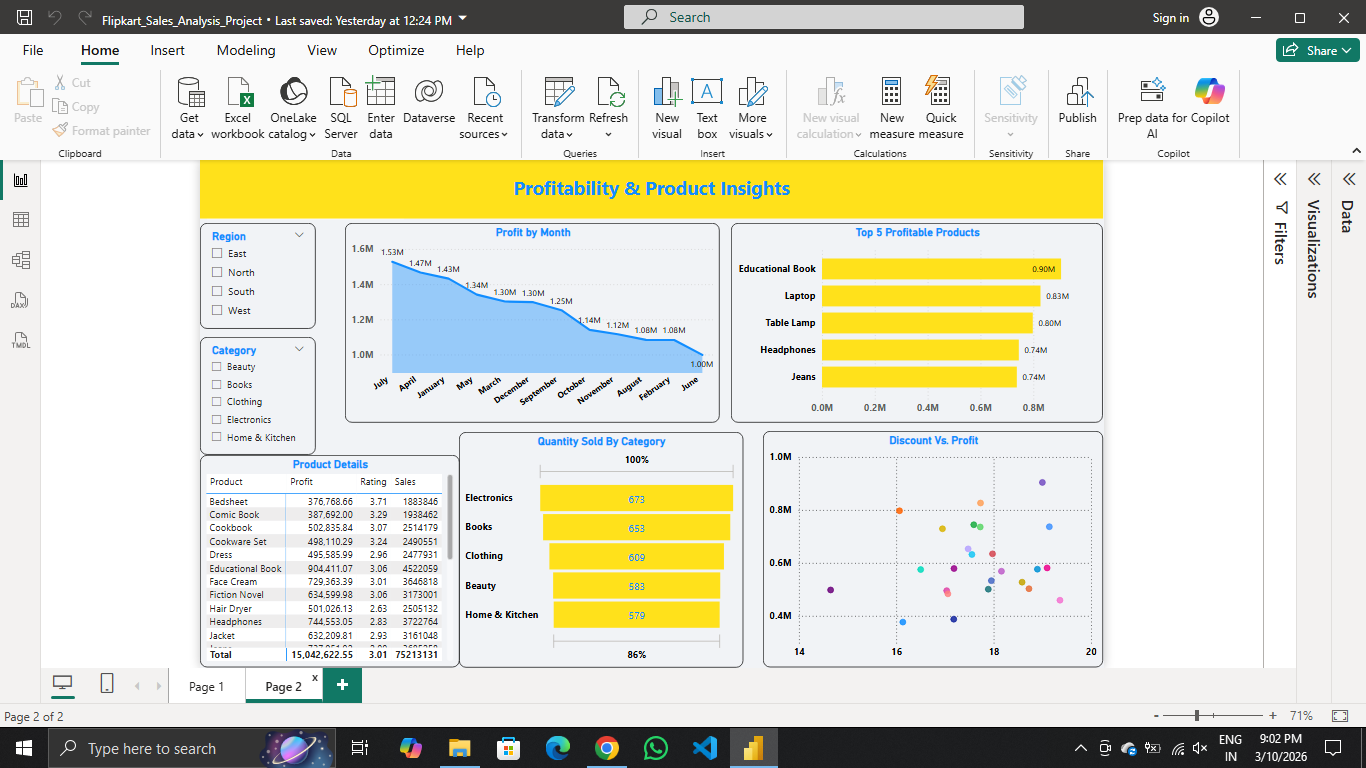

This screenshot's page, from the dashboard's own definition file:
{"tool":"powerbi","page":{"name":"Page 2","canvas":[1280,720],"ordinal":1},"visuals":[{"type":"textbox","box":[10.1,0,279.4,83.5],"z":0},{"type":"textbox","box":[0,0,1280,83.3],"z":1000},{"type":"textbox","box":[0,0,1280,83.3],"z":2000},{"type":"barChart","title":"Top 5 Profitable Products","fields":{"Category":["flipkart_sales_enriched.Product Name"],"Y":["Sum(flipkart_sales_enriched.Profit (INR))"]},"box":[752.6,89.3,527.2,283.5],"z":3000},{"type":"areaChart","title":"Profit by Month","fields":{"Y":["Sum(flipkart_sales_enriched.Profit (INR))"],"Category":["flipkart_sales_enriched.Month"]},"box":[205.5,89.3,531.5,283.5],"z":4000},{"type":"funnel","title":"Quantity Sold By Category","fields":{"Category":["flipkart_sales_enriched.Category"],"Y":["Sum(flipkart_sales_enriched.Quantity Sold)"]},"box":[367.1,385.5,402.5,334.5],"z":5000},{"type":"pivotTable","title":"Product Details","fields":{"Rows":["flipkart_sales_enriched.Category","flipkart_sales_enriched.Product Name"],"Values":["Sum(flipkart_sales_enriched.Profit (INR))","Avg(flipkart_sales_enriched.Customer Rating)","Sum(flipkart_sales_enriched.Total Sales (INR))"]},"box":[0,418.2,367.6,300.7],"z":6000},{"type":"scatterChart","title":"Discount Vs. Profit","fields":{"X":["Avg(flipkart_sales_enriched.Discount Percentage)"],"Y":["Sum(flipkart_sales_enriched.Profit (INR))"],"Category":["flipkart_sales_enriched.Product Name"]},"box":[798,384.7,482,334.7],"z":7000},{"type":"slicer","fields":{"Values":["flipkart_sales_enriched.Region"]},"box":[0,89.3,164.4,150.2],"z":8000},{"type":"slicer","fields":{"Values":["flipkart_sales_enriched.Category"]},"box":[0,250.9,164.4,167.2],"z":9000}]}

Visuals, with their boxes on the page's 1280x720 design canvas (x1, y1, x2, y2). These are canvas units, not pixel positions in the 1366x768 screenshot, which may show the page scaled, cropped or inside an application window:
textbox: left=10, top=0, right=290, bottom=84
textbox: left=0, top=0, right=1280, bottom=83
textbox: left=0, top=0, right=1280, bottom=83
"Top 5 Profitable Products" barChart: left=753, top=89, right=1280, bottom=373
"Profit by Month" areaChart: left=206, top=89, right=737, bottom=373
"Quantity Sold By Category" funnel: left=367, top=386, right=770, bottom=720
"Product Details" pivotTable: left=0, top=418, right=368, bottom=719
"Discount Vs. Profit" scatterChart: left=798, top=385, right=1280, bottom=719
slicer - flipkart_sales_enriched.Region: left=0, top=89, right=164, bottom=240
slicer - flipkart_sales_enriched.Category: left=0, top=251, right=164, bottom=418
